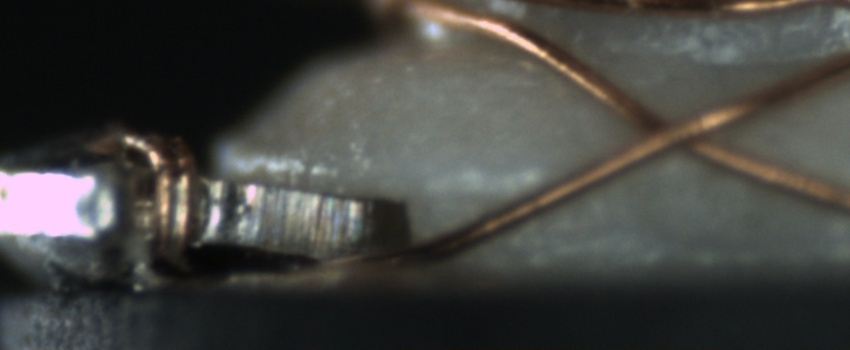CL: (605, 86, 754, 174)
DL: (428, 153, 572, 217)
TE: (98, 121, 202, 275)
